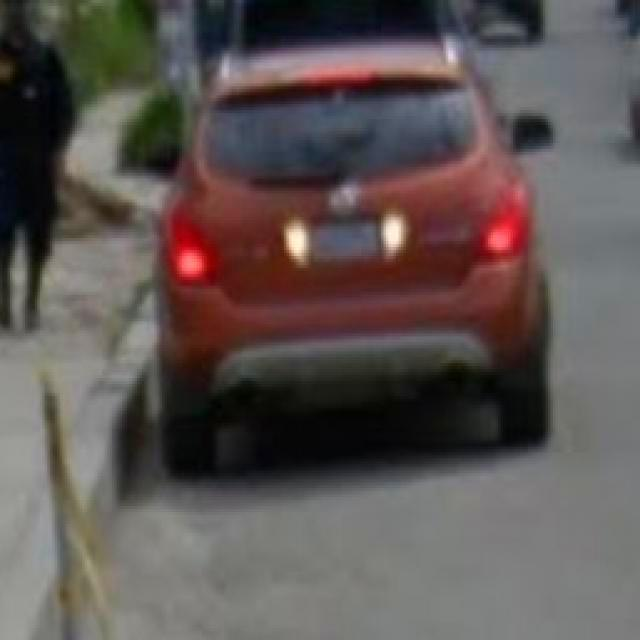Car: (139, 8, 569, 481)
